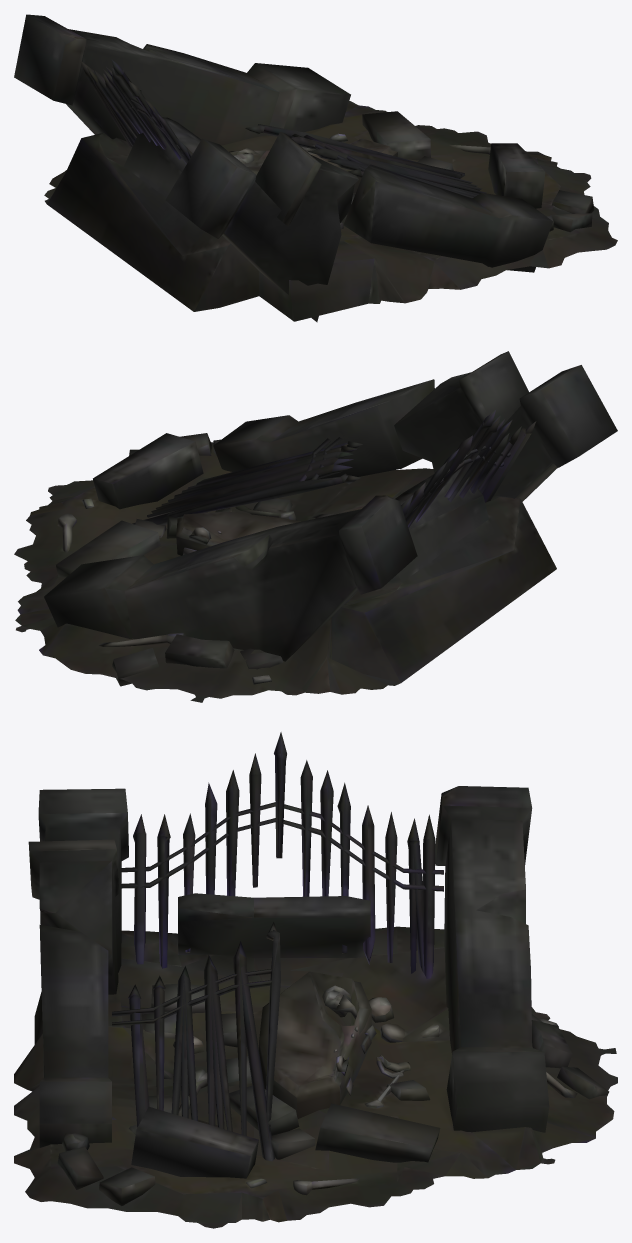
Rendered from prop_node_crypt_collapse.glb.
The picture shows the model from 3 angles, top to bottom: view 1: azimuth 30°, elevation 25°; view 2: azimuth 150°, elevation 25°; view 3: azimuth 270°, elevation 25°; orthographic projection. The views are drawn at different scales.
Parts seen in each view (by area): view 1: tripo_node_b49dba17-2809-40bc-9ce0-7a4115dd1b2a; view 2: tripo_node_b49dba17-2809-40bc-9ce0-7a4115dd1b2a; view 3: tripo_node_b49dba17-2809-40bc-9ce0-7a4115dd1b2a.
Part boxes in pixels (bbox=[...]): tripo_node_b49dba17-2809-40bc-9ce0-7a4115dd1b2a: bbox=[14, 14, 617, 322]; tripo_node_b49dba17-2809-40bc-9ce0-7a4115dd1b2a: bbox=[14, 351, 617, 702]; tripo_node_b49dba17-2809-40bc-9ce0-7a4115dd1b2a: bbox=[14, 732, 617, 1228].
Size of the model in its own units: 0.998 by 0.4512 by 0.9628.
Materials: 1 (1 with a texture image).
